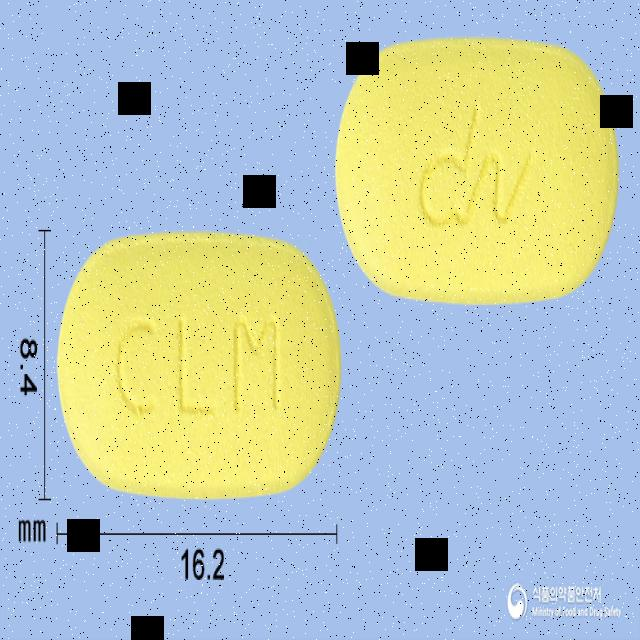Clamicin: (56, 230, 344, 506), (334, 34, 622, 310)
